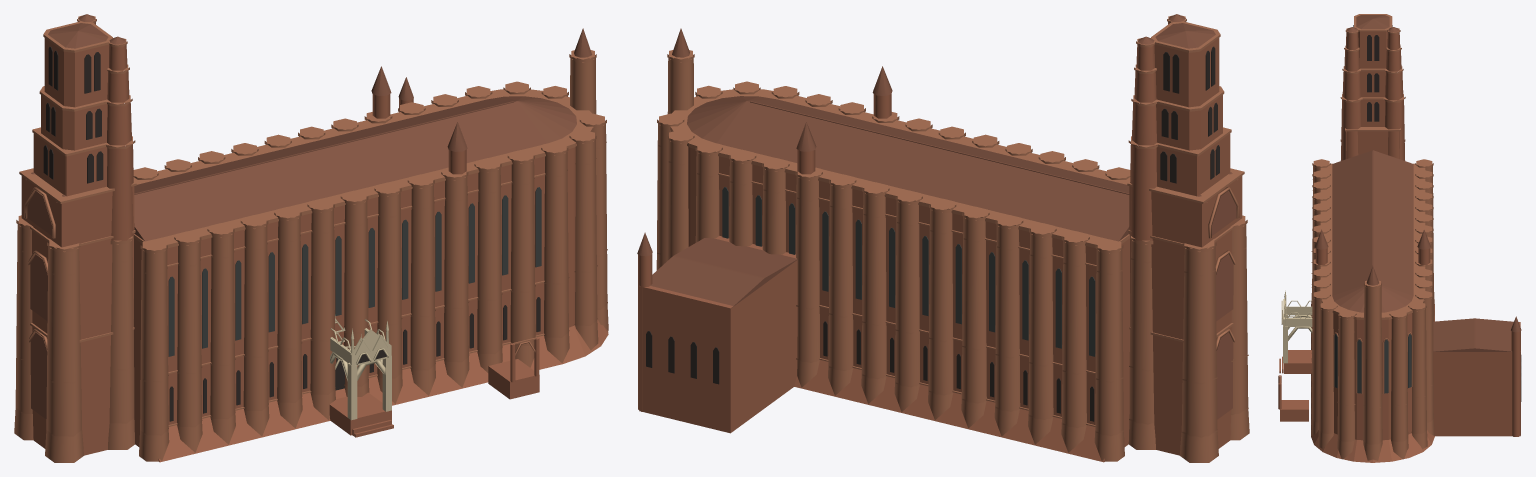
Rendered from cathedrale-sainte-cecile-albi-far.glb.
The picture shows the model from 3 angles, left to right: view 1: azimuth 30°, elevation 25°; view 2: azimuth 150°, elevation 25°; view 3: azimuth 270°, elevation 25°; orthographic projection. The views are drawn at different scales.
Visible parts, largest first — view 1: cathedrale-sainte-cecile-albi-0-trim, cathedrale-sainte-cecile-albi-0-brick, cathedrale-sainte-cecile-albi-0-roof, cathedrale-sainte-cecile-albi-0-glow, cathedrale-sainte-cecile-albi-0-recess, cathedrale-sainte-cecile-albi-0-stone, cathedrale-sainte-cecile-albi-0-joint; view 2: cathedrale-sainte-cecile-albi-0-trim, cathedrale-sainte-cecile-albi-0-brick, cathedrale-sainte-cecile-albi-0-roof, cathedrale-sainte-cecile-albi-0-glow, cathedrale-sainte-cecile-albi-0-recess, cathedrale-sainte-cecile-albi-0-joint; view 3: cathedrale-sainte-cecile-albi-0-trim, cathedrale-sainte-cecile-albi-0-brick, cathedrale-sainte-cecile-albi-0-roof, cathedrale-sainte-cecile-albi-0-stone, cathedrale-sainte-cecile-albi-0-glow, cathedrale-sainte-cecile-albi-0-recess.
Boxes of the visible parts, x1,y1,x2,y2 form: cathedrale-sainte-cecile-albi-0-trim: [14, 15, 608, 462]; cathedrale-sainte-cecile-albi-0-brick: [21, 22, 608, 462]; cathedrale-sainte-cecile-albi-0-roof: [25, 14, 591, 241]; cathedrale-sainte-cecile-albi-0-glow: [168, 187, 541, 356]; cathedrale-sainte-cecile-albi-0-recess: [43, 46, 540, 421]; cathedrale-sainte-cecile-albi-0-stone: [330, 314, 391, 420]; cathedrale-sainte-cecile-albi-0-joint: [27, 191, 51, 419]; cathedrale-sainte-cecile-albi-0-trim: [656, 15, 1249, 462]; cathedrale-sainte-cecile-albi-0-brick: [638, 22, 1242, 462]; cathedrale-sainte-cecile-albi-0-roof: [637, 14, 1238, 307]; cathedrale-sainte-cecile-albi-0-glow: [722, 187, 1095, 356]; cathedrale-sainte-cecile-albi-0-recess: [646, 46, 1219, 421]; cathedrale-sainte-cecile-albi-0-joint: [1212, 191, 1236, 419]; cathedrale-sainte-cecile-albi-0-trim: [1279, 14, 1434, 460]; cathedrale-sainte-cecile-albi-0-brick: [1278, 31, 1520, 462]; cathedrale-sainte-cecile-albi-0-roof: [1315, 15, 1521, 351]; cathedrale-sainte-cecile-albi-0-stone: [1281, 290, 1312, 363]; cathedrale-sainte-cecile-albi-0-glow: [1334, 334, 1411, 393]; cathedrale-sainte-cecile-albi-0-recess: [1282, 25, 1521, 401].
Bounding box in the file's own units: 113 × 78 × 62.87.
